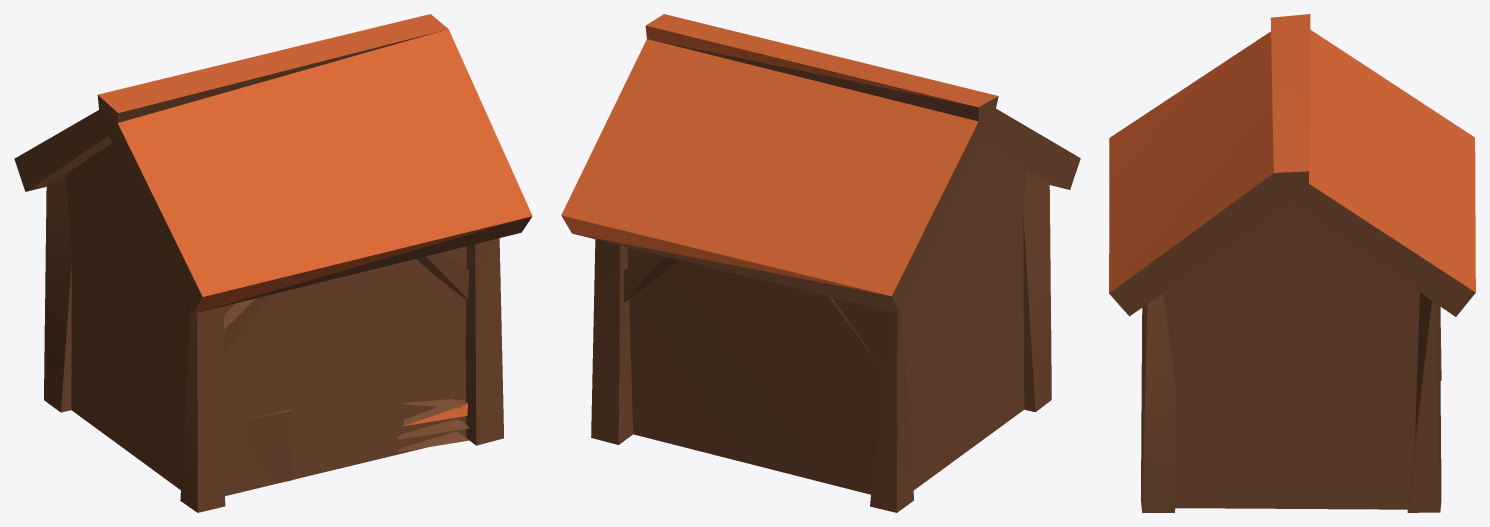
File: supply.2.glb
The picture shows the model from 3 angles, left to right: view 1: azimuth 30°, elevation 25°; view 2: azimuth 150°, elevation 25°; view 3: azimuth 270°, elevation 25°; orthographic projection. The views are drawn at different scales.
Visible parts, largest first — view 1: supply; view 2: supply; view 3: supply.
Boxes of the visible parts, x1,y1,x2,y2 form: supply: (14,14,532,512); supply: (561,14,1080,512); supply: (1109,14,1475,512).
Size of the model in its own units: 0.9 by 0.9268 by 0.8865.
